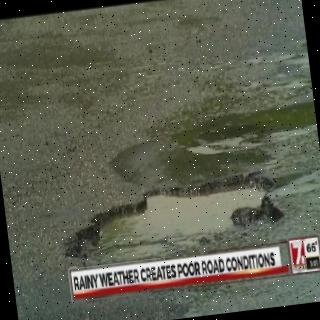pothole: (65, 172, 283, 260)
